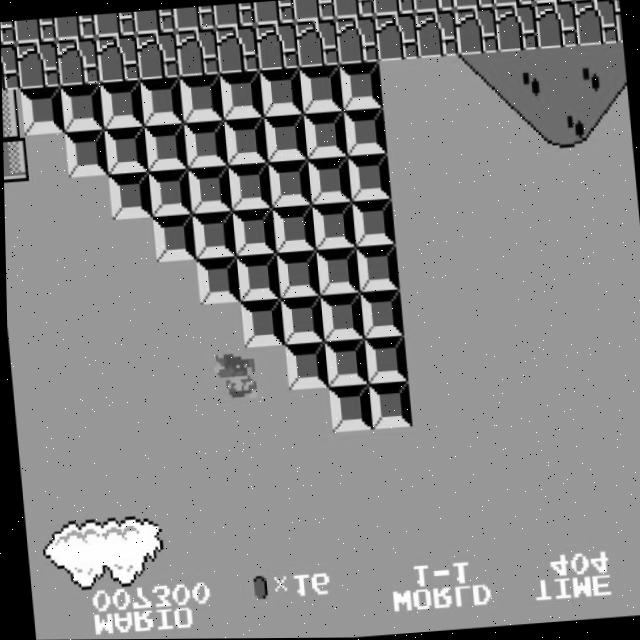11- little_mario: (208, 352, 255, 404)
14- pipe: (2, 89, 23, 137)
15- pipe_head: (2, 134, 27, 182)
17- undestructible_block: (214, 24, 259, 74), (15, 40, 60, 89), (55, 37, 100, 86), (95, 34, 140, 83), (254, 22, 299, 71), (294, 19, 339, 68), (334, 16, 379, 65), (374, 13, 419, 62), (414, 10, 459, 59), (454, 7, 499, 56), (533, 1, 578, 50), (494, 3, 538, 53), (135, 31, 179, 80), (175, 28, 219, 77), (573, 0, 618, 47), (53, 14, 96, 41), (133, 8, 176, 35), (172, 5, 216, 31), (212, 3, 256, 29), (13, 17, 56, 43), (93, 11, 136, 37), (252, 0, 295, 26), (292, 0, 335, 22), (1, 43, 20, 91), (332, 0, 375, 19), (371, 0, 414, 16), (411, 0, 454, 14), (451, 0, 494, 10), (0, 21, 16, 46), (614, 0, 622, 43), (491, 0, 534, 7), (531, 0, 574, 4)
9- hard_block: (151, 213, 196, 263), (139, 76, 184, 126), (238, 298, 283, 348), (231, 207, 276, 257), (218, 70, 263, 120), (318, 292, 363, 342), (338, 61, 383, 111), (19, 86, 64, 135), (63, 128, 108, 177), (59, 83, 104, 132), (103, 125, 148, 174), (99, 80, 144, 129), (147, 168, 192, 217), (143, 122, 188, 171), (191, 210, 236, 259), (179, 74, 224, 123), (234, 253, 279, 302), (226, 162, 271, 211), (282, 341, 327, 390), (278, 295, 323, 344), (270, 204, 315, 253), (262, 113, 307, 162), (258, 68, 303, 117), (322, 338, 367, 387), (314, 247, 359, 296), (310, 201, 355, 250), (306, 156, 351, 205), (302, 110, 347, 159), (298, 65, 343, 114), (362, 335, 407, 384), (358, 289, 403, 338), (350, 198, 395, 247), (346, 153, 391, 202), (342, 107, 387, 156), (107, 171, 152, 219), (186, 165, 231, 213), (274, 251, 319, 299), (266, 159, 311, 207), (326, 384, 371, 432), (366, 381, 411, 429), (354, 245, 399, 293), (183, 119, 227, 168), (223, 116, 267, 165), (195, 257, 239, 305)
